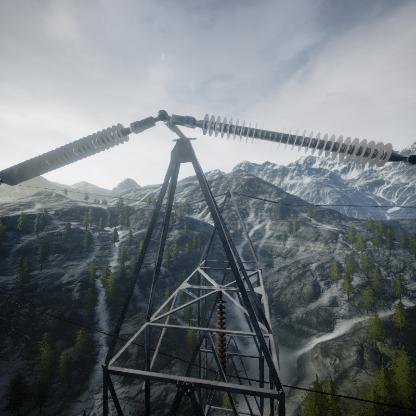insulator: (194, 112, 407, 169), (1, 120, 135, 188), (213, 300, 232, 369)
